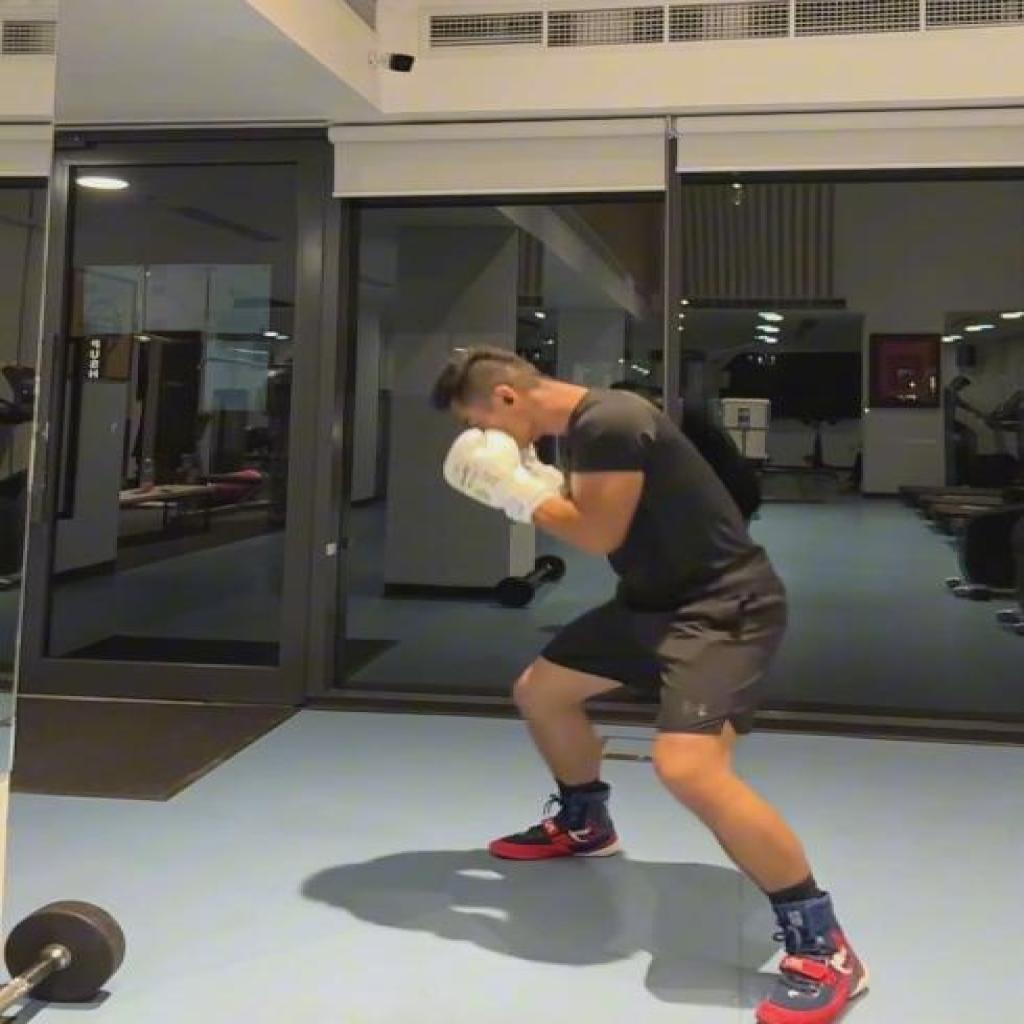no punch: (428, 345, 873, 1024)
